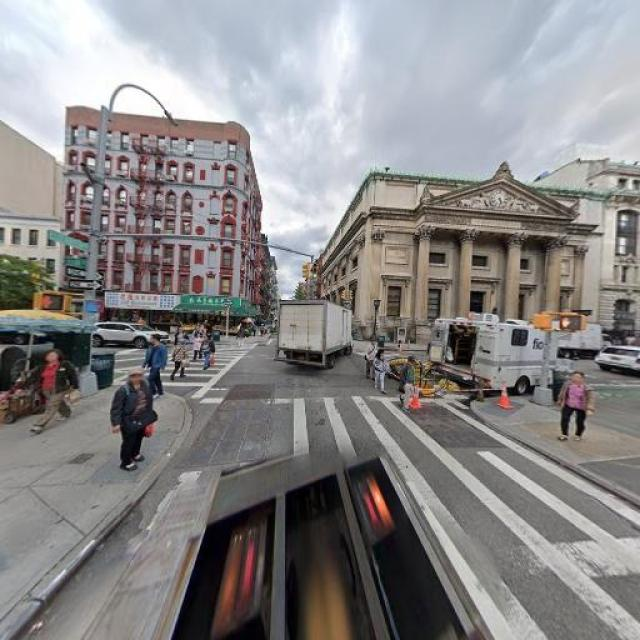Building: (324, 169, 569, 345), (72, 115, 248, 335)
